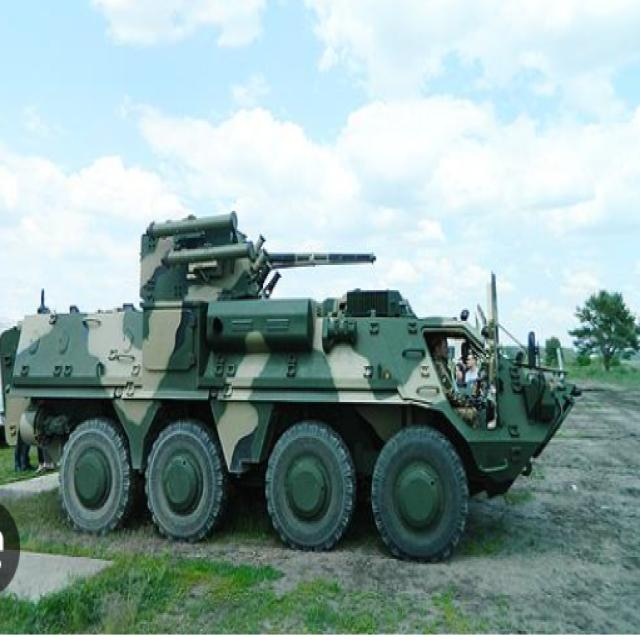MIL_APC: (28, 203, 581, 565)
